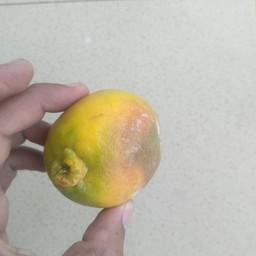Bad_orange: (40, 86, 164, 208)
